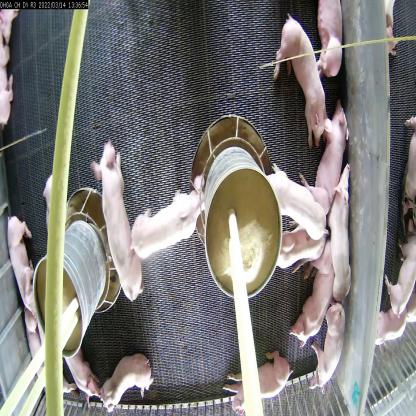Pig: (90, 140, 142, 308), (130, 178, 207, 264), (275, 10, 323, 143), (289, 244, 335, 349), (228, 346, 294, 415), (0, 209, 42, 314), (261, 170, 317, 239), (97, 350, 151, 415), (305, 1, 352, 73), (327, 166, 350, 299), (316, 304, 349, 383), (56, 338, 96, 396), (274, 218, 321, 254), (312, 105, 322, 198)
